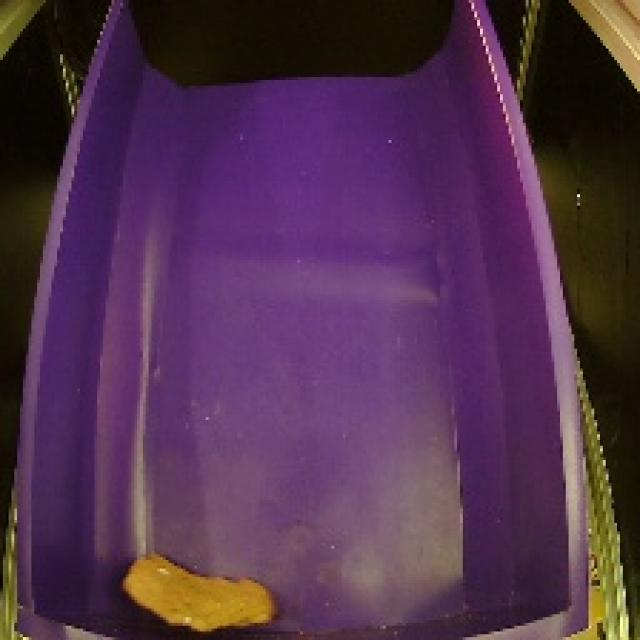brick: (120, 534, 284, 638)
